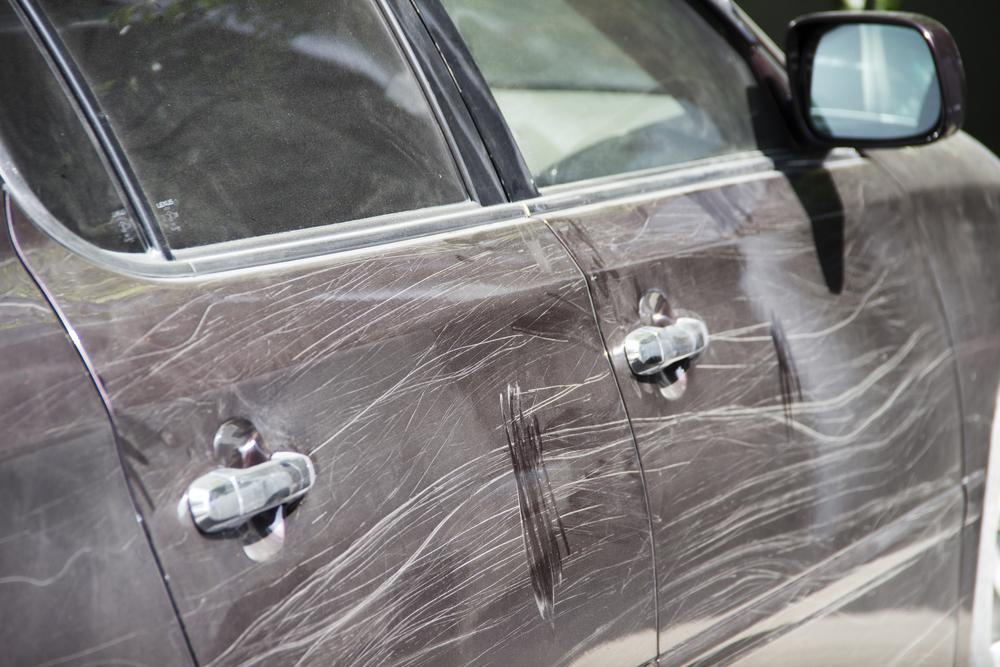scratch: (65, 219, 660, 667), (544, 163, 963, 667), (0, 372, 134, 600)
